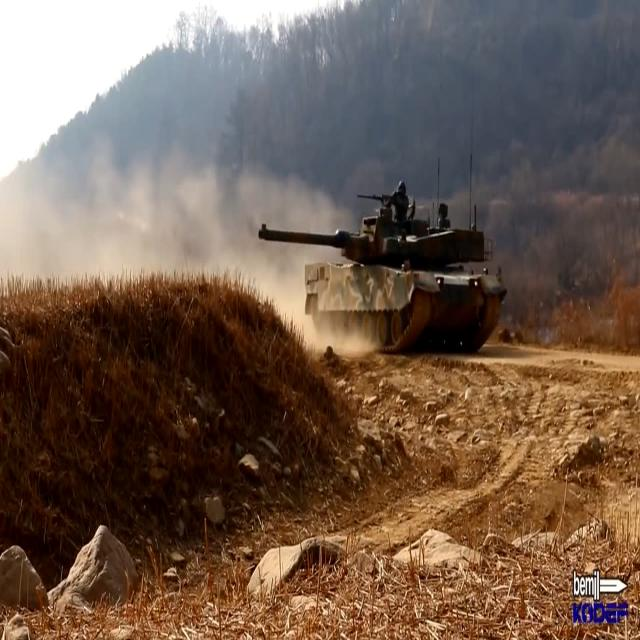korea tank: (257, 174, 509, 354)
